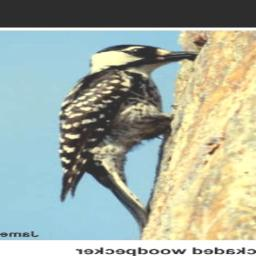Woodpecker: (48, 43, 206, 229)
